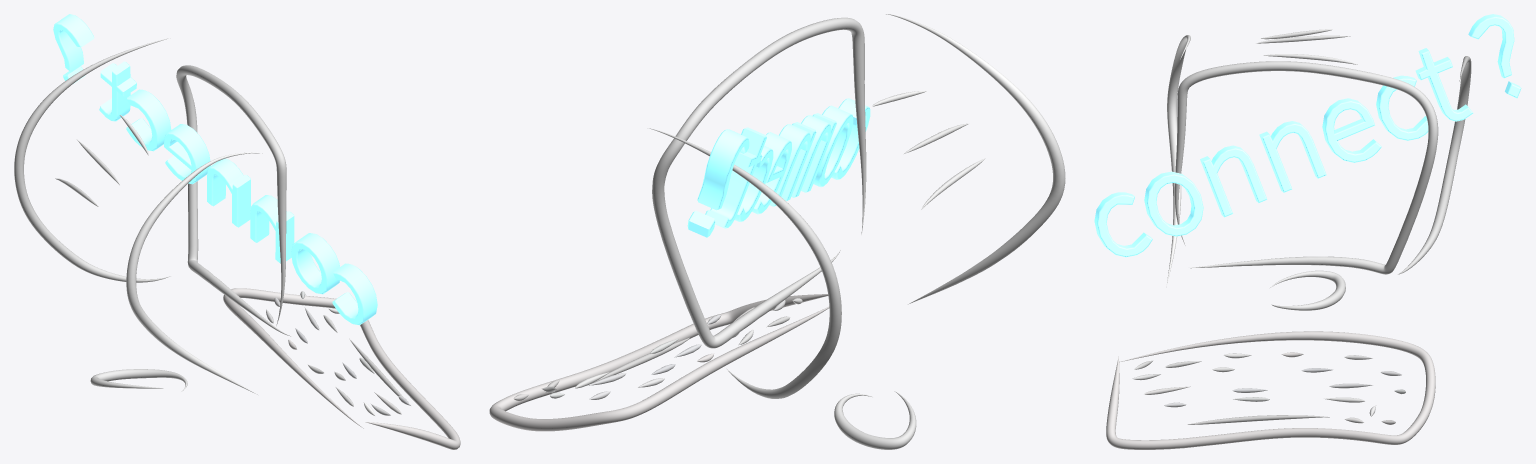
File: connect.gltf
3 renders of one model, left to right at view 1: azimuth 30°, elevation 25°; view 2: azimuth 150°, elevation 25°; view 3: azimuth 270°, elevation 25°, orthographic. The views are drawn at different scales.
Visible parts, largest first — view 1: t.0104, s.0066, s.0078, s.0067, s.0068, s.0072; view 2: t.0104, s.0066, s.0078, s.0068, s.0067, s.0072; view 3: t.0104, s.0078, s.0066, s.0067, s.0068, s.0072, s.0079.
Boxes of the visible parts, bbox=[...] form: t.0104: bbox=[53, 14, 377, 325]; s.0066: bbox=[176, 65, 290, 336]; s.0078: bbox=[223, 288, 460, 449]; s.0067: bbox=[14, 38, 170, 282]; s.0068: bbox=[126, 152, 262, 394]; s.0072: bbox=[90, 369, 187, 391]; t.0104: bbox=[687, 98, 870, 237]; s.0066: bbox=[652, 17, 866, 348]; s.0078: bbox=[489, 294, 829, 431]; s.0068: bbox=[886, 14, 1065, 304]; s.0067: bbox=[648, 128, 841, 398]; s.0072: bbox=[834, 391, 916, 449]; t.0104: bbox=[1094, 14, 1521, 257]; s.0078: bbox=[1106, 331, 1435, 449]; s.0066: bbox=[1174, 61, 1438, 274]; s.0067: bbox=[1397, 56, 1471, 274]; s.0068: bbox=[1166, 35, 1190, 287]; s.0072: bbox=[1269, 270, 1345, 310]; s.0079: bbox=[1188, 415, 1329, 424].
Bounding box in the file's own units: 1.03 × 0.9765 × 1.12.
